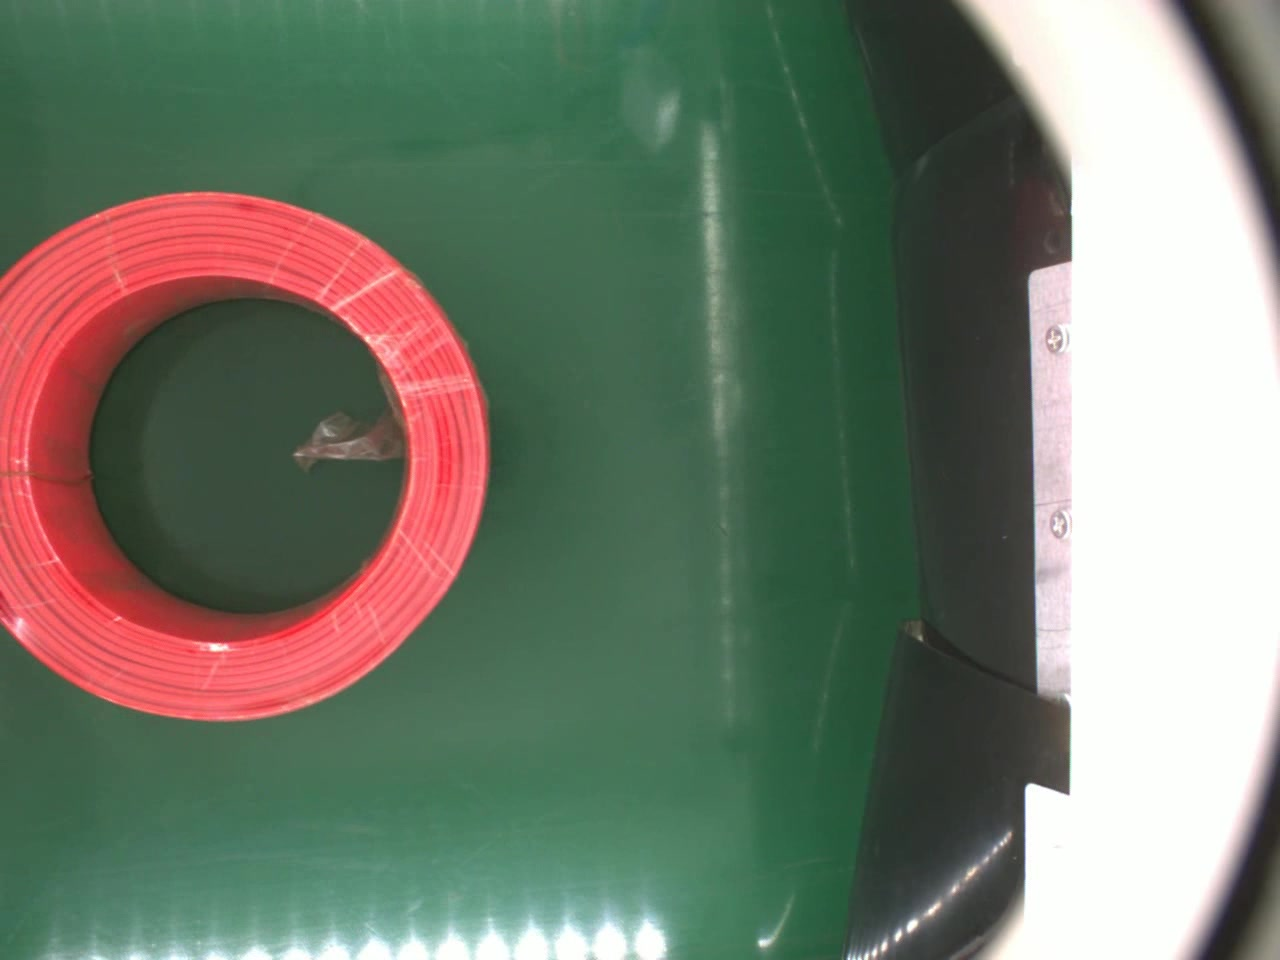red: (0, 187, 493, 718)
